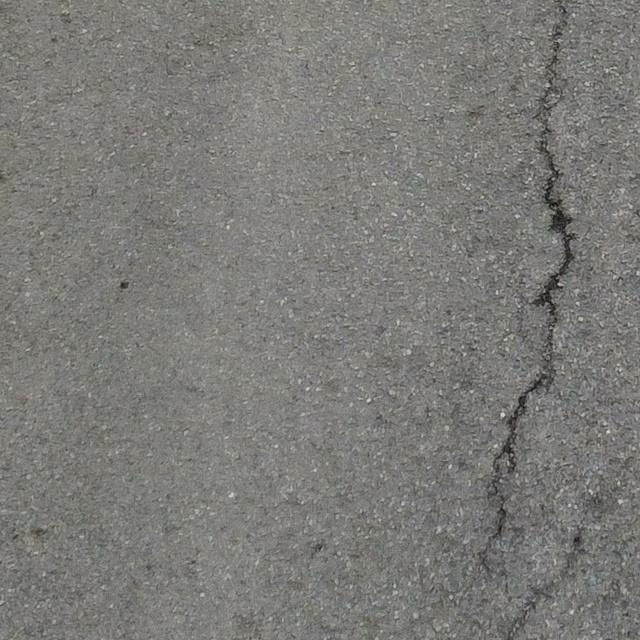LongitudinalCrack: (479, 9, 574, 566)
